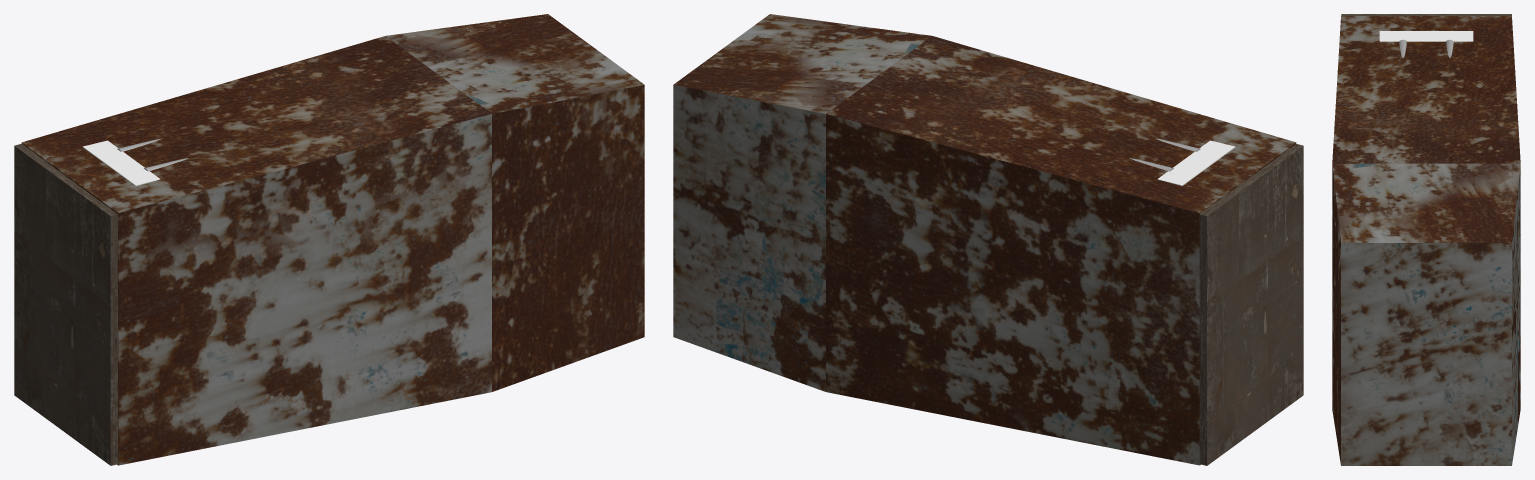
The model's file is Spawnroom.fbx.
3 renders of one model, left to right at view 1: azimuth 30°, elevation 25°; view 2: azimuth 150°, elevation 25°; view 3: azimuth 270°, elevation 25°, orthographic. The views are drawn at different scales.
Visible parts, largest first — view 1: elevatorroom1, door, lightcaseglass; view 2: elevatorroom1, door, lightcaseglass; view 3: elevatorroom1, lightcaseglass, door.
Part boxes in pixels (box(x1,y1,x2,y2)): elevatorroom1: box(21, 14, 644, 465); door: box(14, 144, 117, 465); lightcaseglass: box(82, 140, 160, 185); elevatorroom1: box(673, 14, 1296, 465); door: box(1199, 144, 1303, 465); lightcaseglass: box(1157, 140, 1235, 185); elevatorroom1: box(1332, 16, 1520, 465); lightcaseglass: box(1379, 31, 1473, 41); door: box(1341, 14, 1511, 15).
Size of the model in its own units: 5.81 by 2.89 by 2.01.
